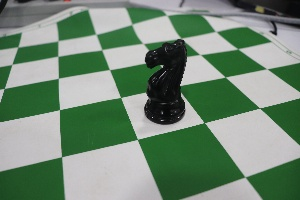black_horse: (132, 26, 201, 127)
